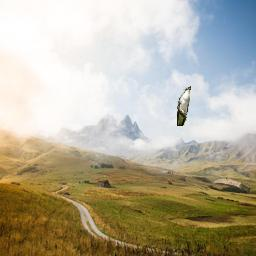Cuckoo: (177, 86, 191, 126)
